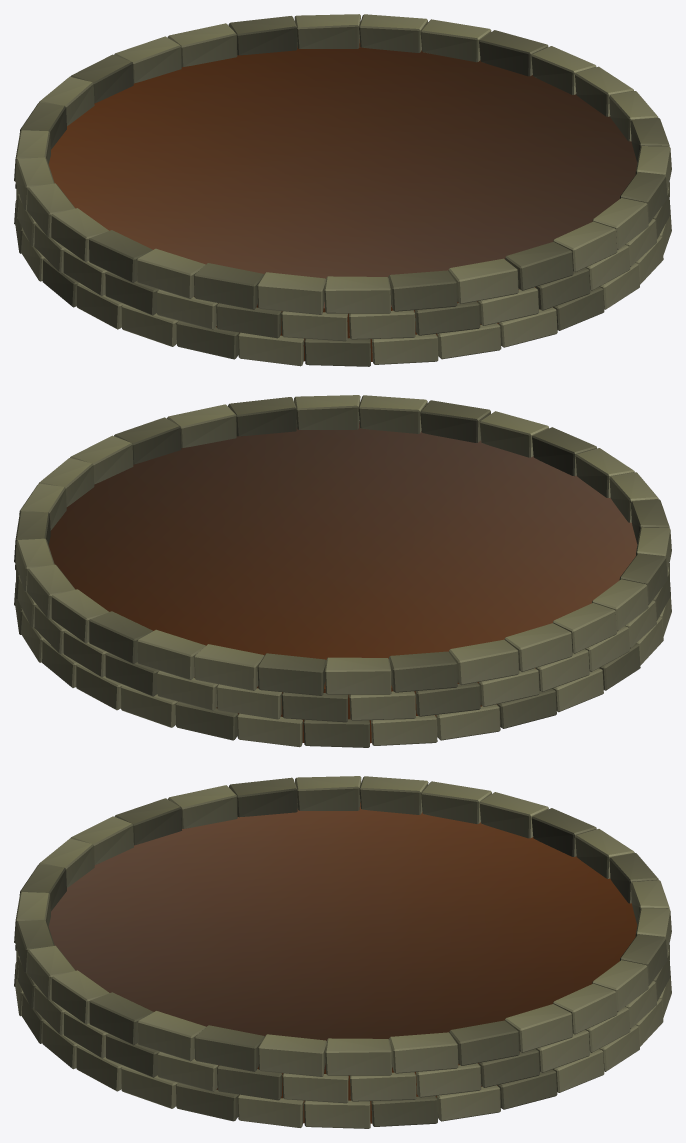
File: block_01.fbx
3 views of the same model, one above another, from view 1: azimuth 30°, elevation 25°; view 2: azimuth 150°, elevation 25°; view 3: azimuth 270°, elevation 25° (orthographic).
Parts seen in each view (by area): view 1: Block_01; view 2: Block_01; view 3: Block_01.
Part boxes in pixels (x1,y1,x2,y2): Block_01: (14,14,671,366); Block_01: (14,395,671,747); Block_01: (14,776,671,1128).
Bounding box in the file's own units: 1258 × 166 × 1256.
1 material, 1 textured.
